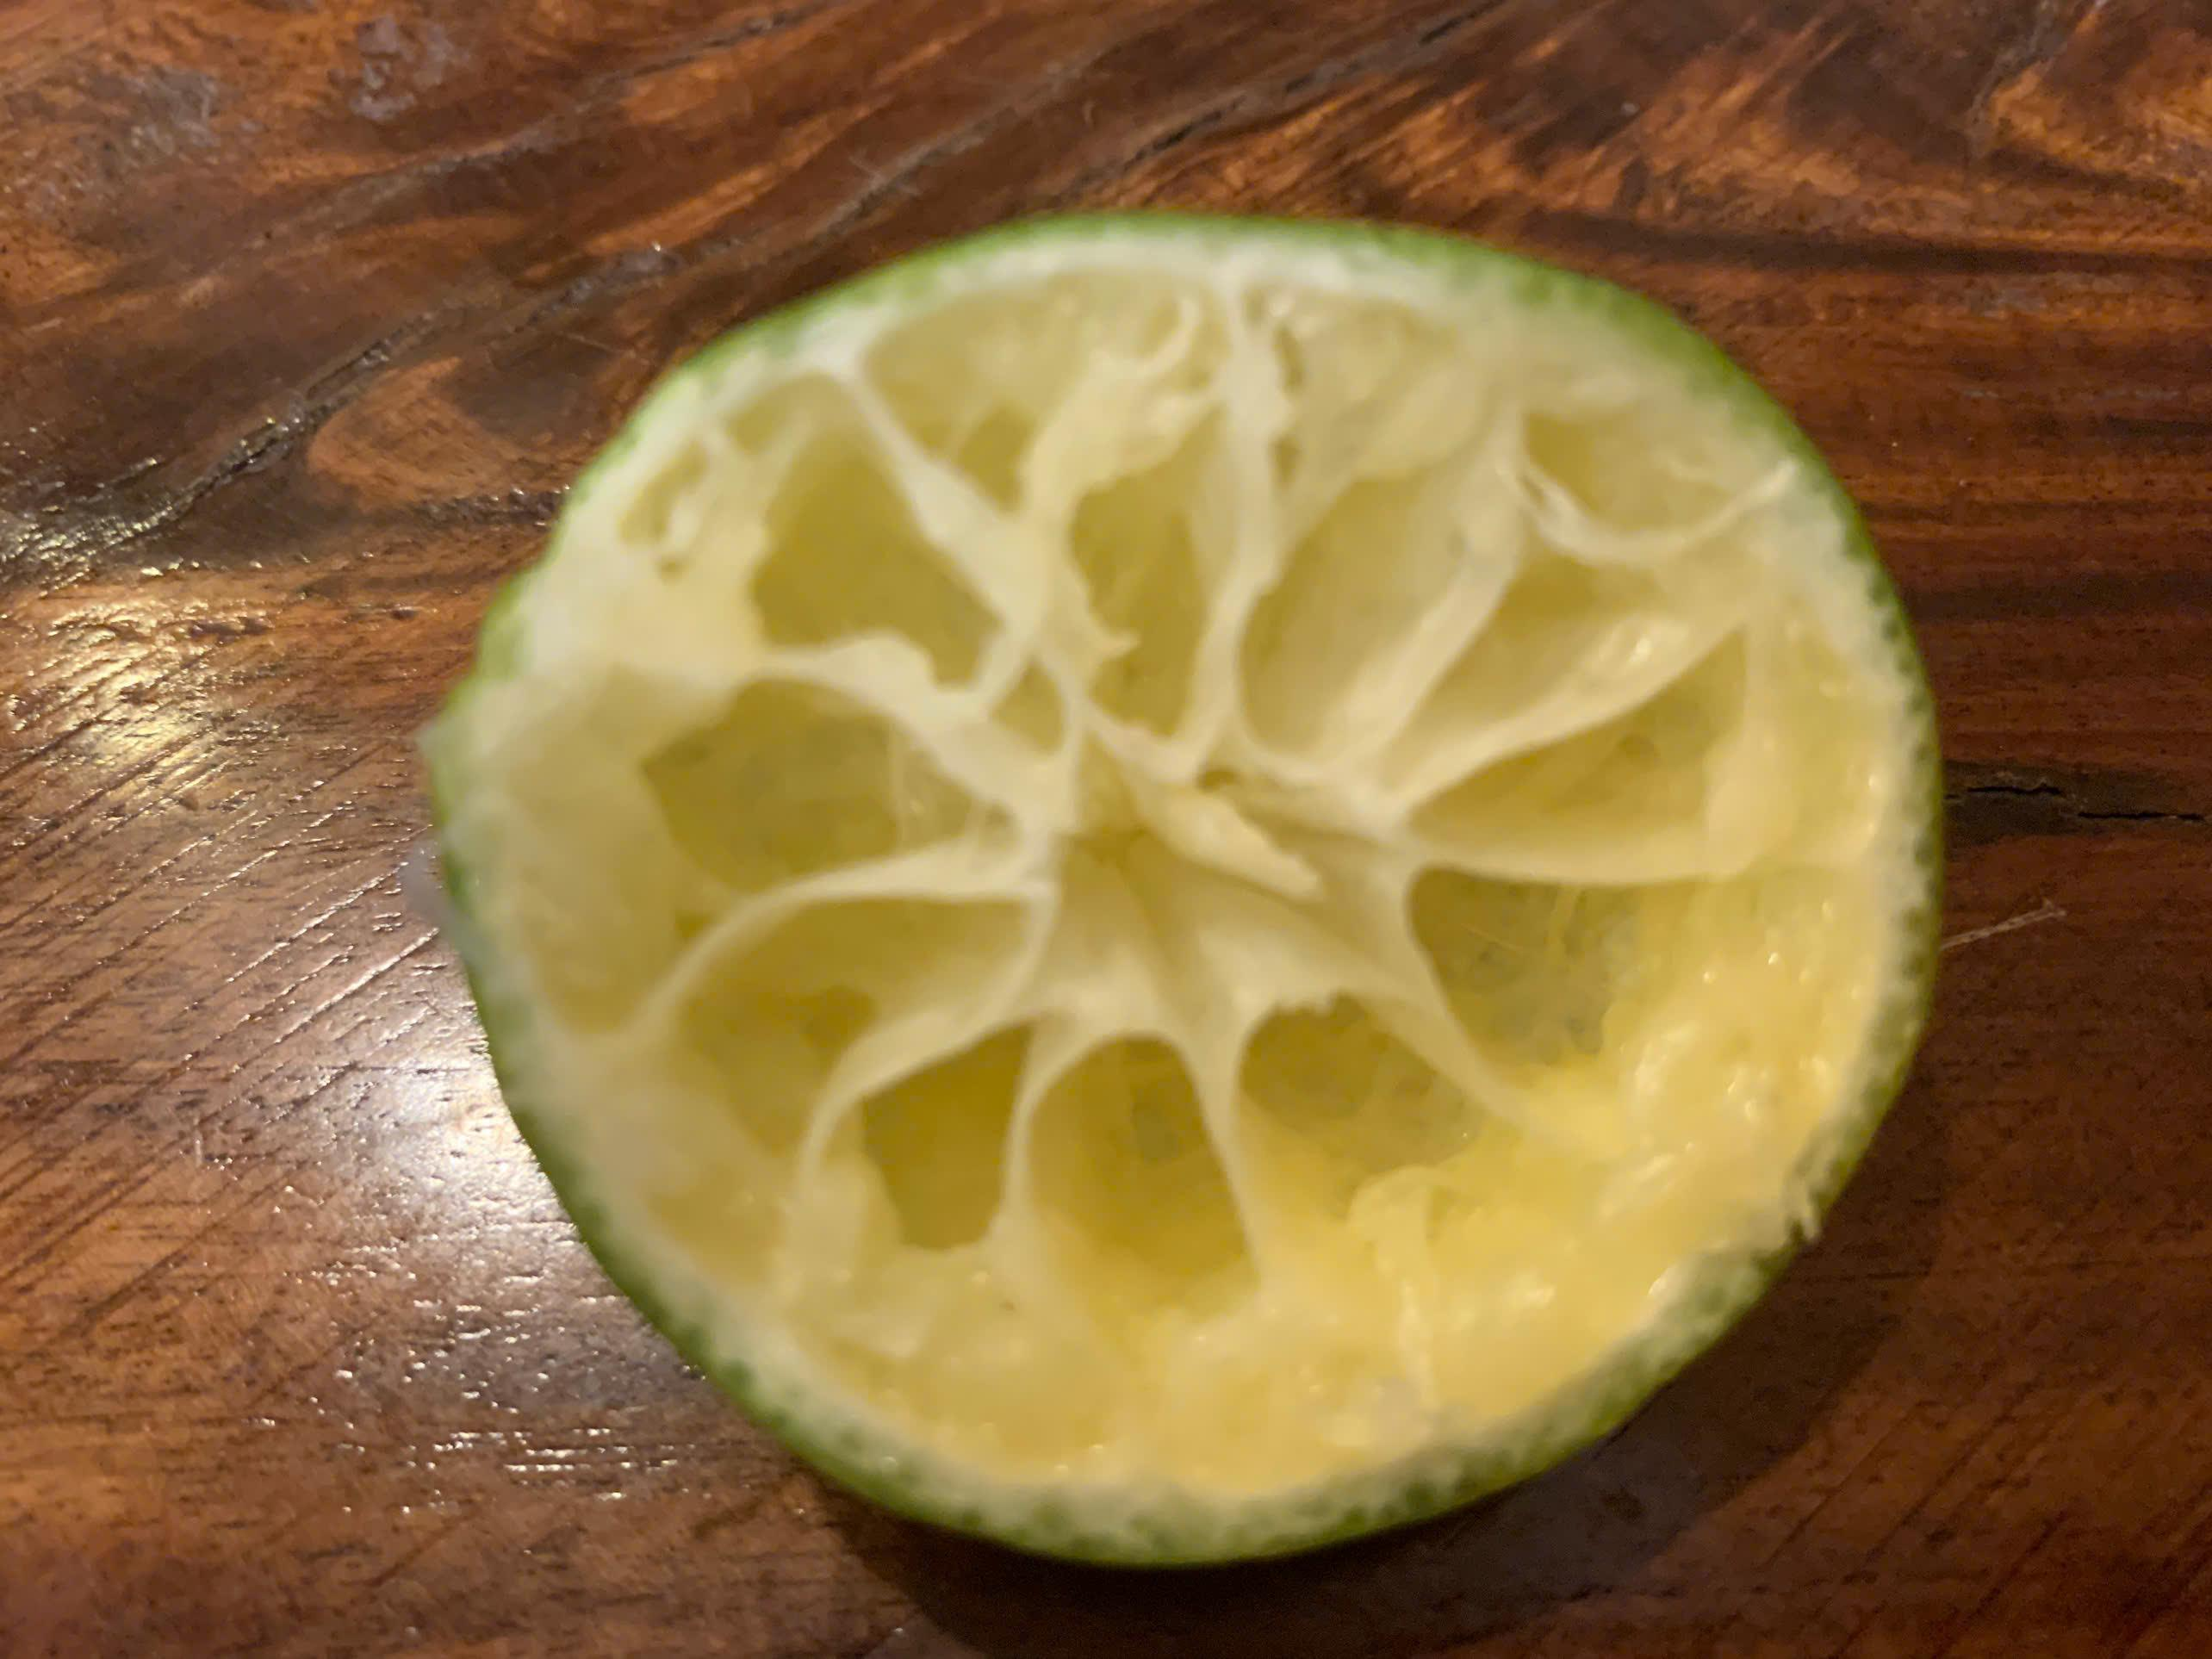Huu co: (462, 213, 1905, 1561)
